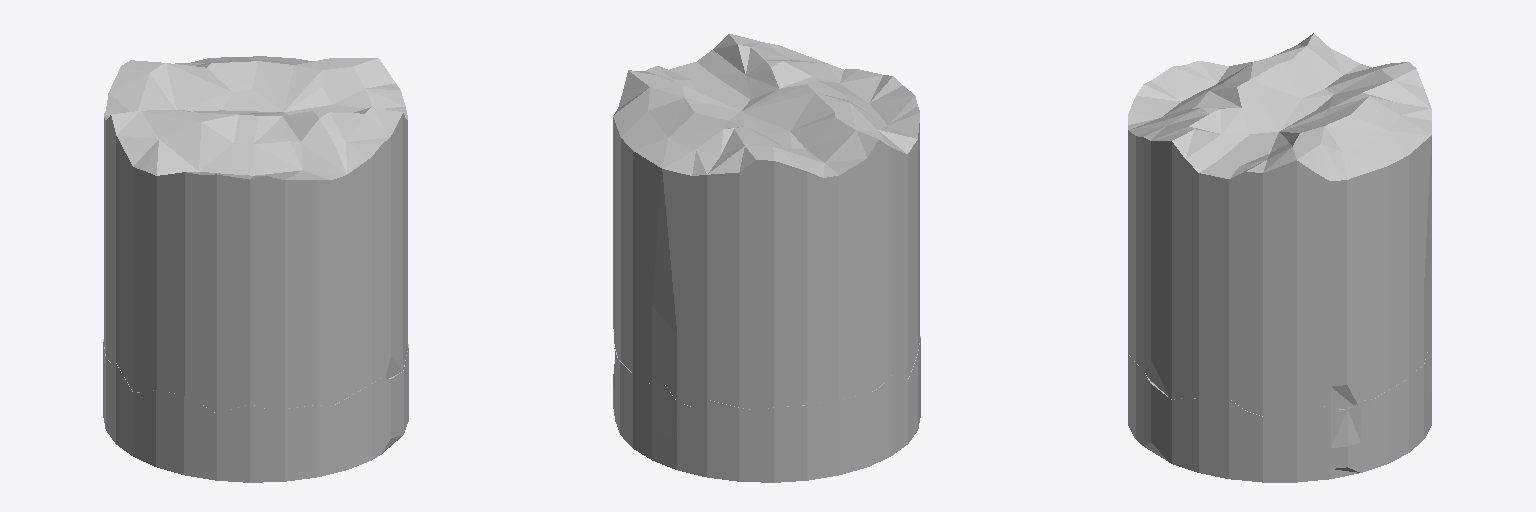
Rendered from finished diorama.obj.
3 renders of one model, left to right at view 1: azimuth 30°, elevation 25°; view 2: azimuth 150°, elevation 25°; view 3: azimuth 270°, elevation 25°, orthographic.
Visible parts, largest first — view 1: polySurface51; view 2: polySurface51; view 3: polySurface51.
Boxes of the visible parts, box(x1,y1,x2,y2) form: polySurface51: box(103, 56, 408, 482); polySurface51: box(613, 34, 920, 482); polySurface51: box(1128, 33, 1431, 482).
Bounding box in the file's own units: 15.6 × 18.38 × 15.59.